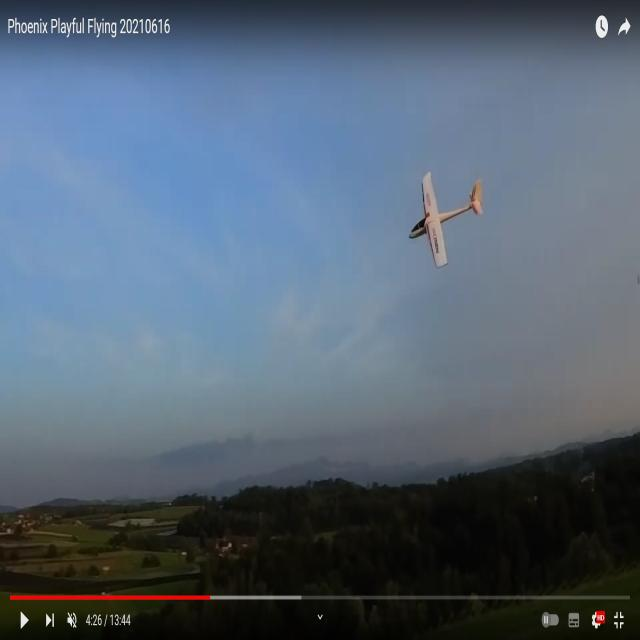iha: (440, 205, 453, 235)
